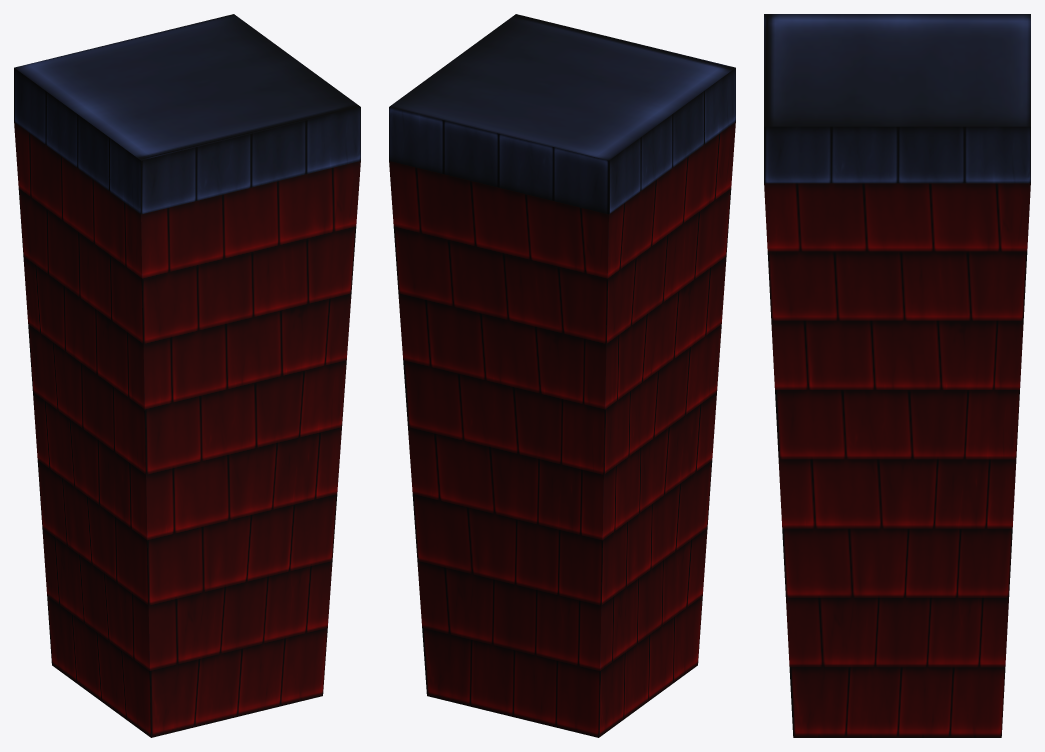
File: chimney.fbx
The picture shows the model from 3 angles, left to right: view 1: azimuth 30°, elevation 25°; view 2: azimuth 150°, elevation 25°; view 3: azimuth 270°, elevation 25°; orthographic projection. The views are drawn at different scales.
Parts seen in each view (by area): view 1: Mesh; view 2: Mesh; view 3: Mesh.
Boxes of the visible parts, x1,y1,x2,y2 form: Mesh: [14, 14, 360, 737]; Mesh: [389, 14, 735, 737]; Mesh: [764, 14, 1030, 737].
Bounding box in the file's own units: 1.95 × 5.03 × 1.95.
